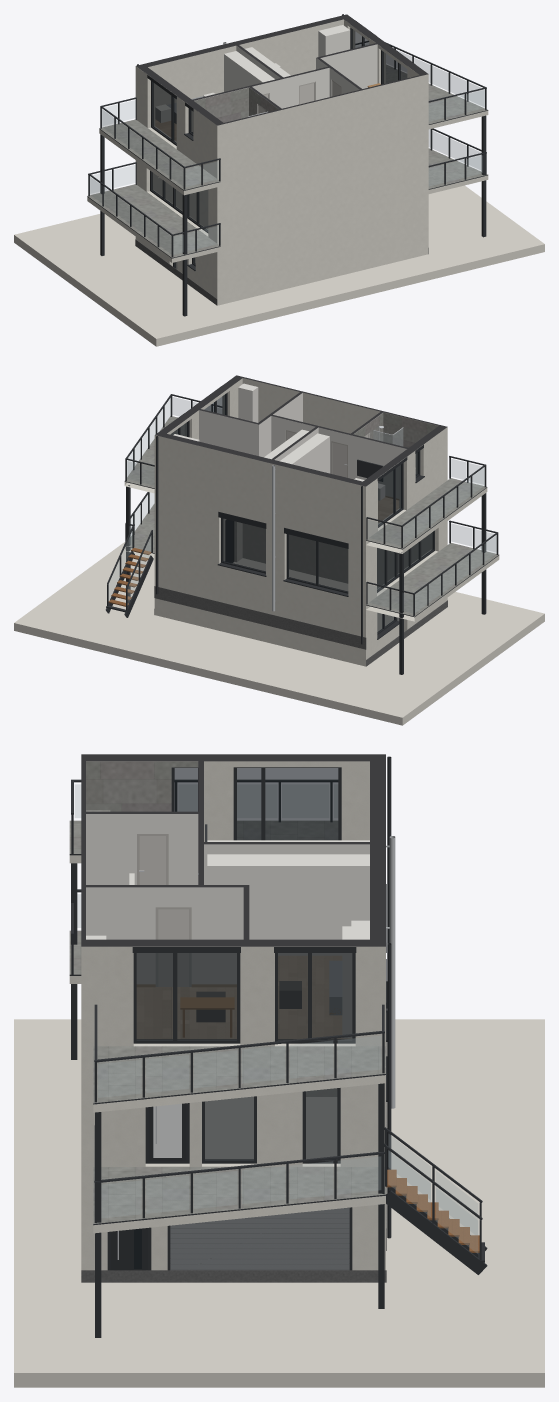
File: dum_b_2np.glb
3 renders of one model, top to bottom at view 1: azimuth 30°, elevation 25°; view 2: azimuth 150°, elevation 25°; view 3: azimuth 270°, elevation 25°, orthographic. The views are drawn at different scales.
Parts seen in each view (by area): view 1: B_ext_omitka, podstava, B_ext_dlazba_balkon, B_ext_sklo_zabradli, B_ext_antracit, B_int_omitka_int, rez_sten, B_sklo_sklo, pevne_obklad, skrin_loznice, skrin_pokoj_S, B_ext_sokl (+1 smaller); view 2: B_ext_omitka, podstava, B_ext_antracit, B_ext_dlazba_balkon, B_ext_sklo_zabradli, B_sklo_sklo, B_int_omitka_int, rez_sten, B_ext_sokl, pevne_obklad, skrin_loznice, skrin_pokoj_J (+3 smaller); view 3: podstava, B_ext_omitka, B_sklo_sklo, B_ext_dlazba_balkon, B_ext_antracit, B_ext_sklo_zabradli, B_int_omitka_int, skrin_pokoj_S_satna, rez_sten, B_ext_vrata, pevne_vinyl, pevne_obklad (+9 smaller).
Part boxes in pixels (<box>): B_ext_omitka: <box>87,19,488,305</box>; podstava: <box>14,185,544,346</box>; B_ext_dlazba_balkon: <box>87,64,487,257</box>; B_ext_sklo_zabradli: <box>90,50,484,254</box>; B_ext_antracit: <box>87,14,488,316</box>; B_int_omitka_int: <box>194,44,377,113</box>; rez_sten: <box>136,14,428,125</box>; B_sklo_sklo: <box>152,29,407,268</box>; pevne_obklad: <box>194,87,278,122</box>; skrin_loznice: <box>224,51,274,91</box>; skrin_pokoj_S: <box>318,25,350,56</box>; B_ext_sokl: <box>135,239,428,305</box>; B_ext_omitka: <box>124,378,499,666</box>; podstava: <box>14,542,544,725</box>; B_ext_antracit: <box>105,390,498,674</box>; B_ext_dlazba_balkon: <box>125,416,498,616</box>; B_ext_sklo_zabradli: <box>109,397,496,612</box>; B_sklo_sklo: <box>171,394,433,632</box>; B_int_omitka_int: <box>199,393,406,498</box>; rez_sten: <box>155,375,447,486</box>; B_ext_sokl: <box>154,586,447,666</box>; pevne_obklad: <box>354,412,438,447</box>; skrin_loznice: <box>280,433,329,473</box>; skrin_pokoj_J: <box>238,383,258,422</box>; podstava: <box>14,1019,544,1387</box>; B_ext_omitka: <box>69,761,385,1270</box>; B_sklo_sklo: <box>134,768,352,1268</box>; B_ext_dlazba_balkon: <box>69,820,385,1223</box>; B_ext_antracit: <box>69,756,487,1337</box>; B_ext_sklo_zabradli: <box>75,784,478,1253</box>; B_int_omitka_int: <box>86,814,369,983</box>; skrin_pokoj_S_satna: <box>207,854,369,955</box>; rez_sten: <box>81,754,385,946</box>; B_ext_vrata: <box>170,1207,349,1270</box>; pevne_vinyl: <box>137,956,351,1038</box>; pevne_obklad: <box>86,761,198,811</box>.
Size of the model in its own units: 18.6 by 8.62 by 11.8.
32 materials, 8 textured.
